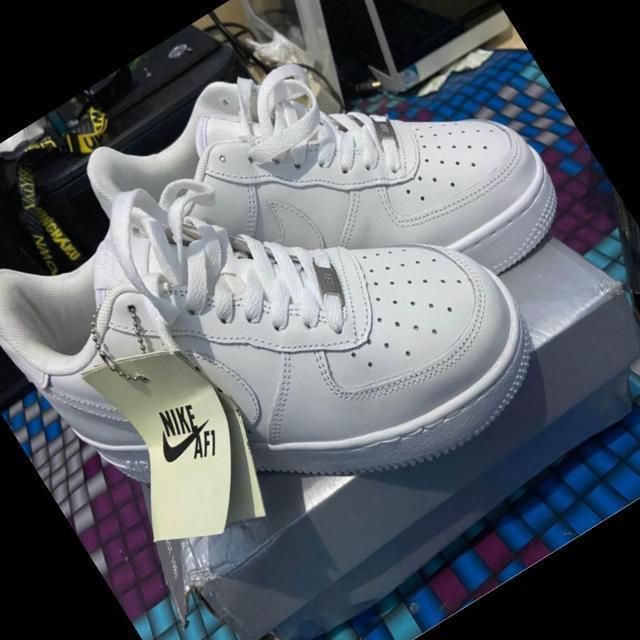nike fake air force: (0, 42, 570, 624), (70, 0, 589, 437)
